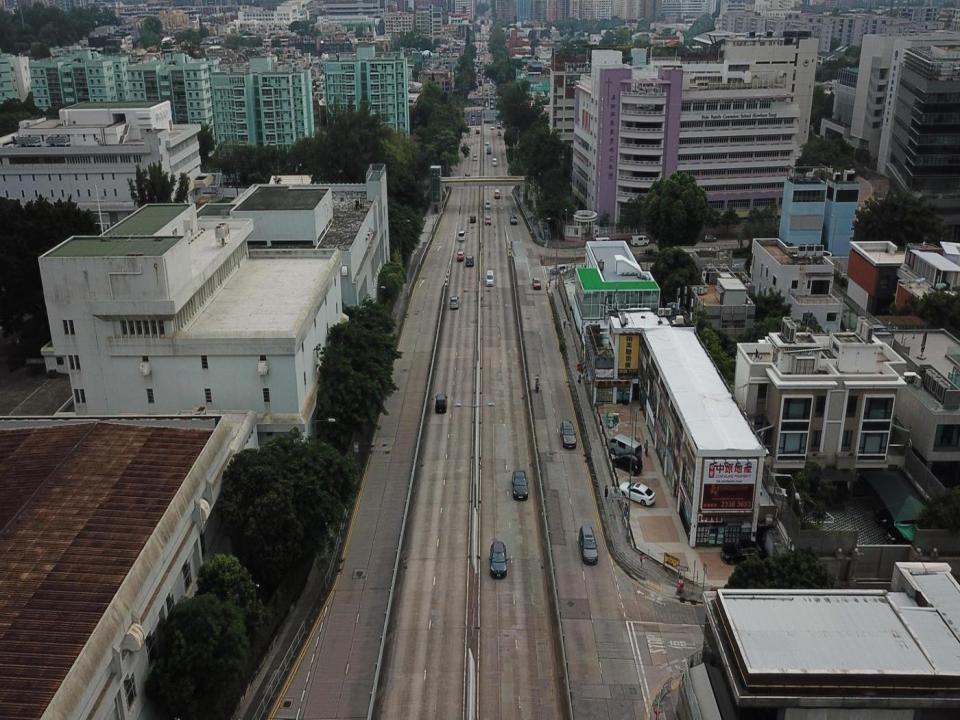car: (619, 481, 655, 506), (612, 453, 642, 476), (489, 541, 507, 577), (560, 420, 577, 450), (512, 469, 528, 500), (550, 265, 570, 274), (449, 296, 459, 310), (532, 277, 541, 289), (510, 214, 518, 226), (466, 255, 474, 266), (704, 235, 716, 242), (457, 251, 464, 262), (484, 215, 491, 224), (470, 215, 476, 224), (486, 147, 492, 155), (472, 154, 478, 161), (486, 201, 490, 210), (465, 172, 470, 179), (485, 140, 489, 145), (476, 129, 480, 134), (491, 126, 494, 130), (498, 132, 500, 136)
van: (608, 433, 642, 462), (579, 523, 598, 563), (435, 393, 448, 413), (631, 234, 649, 246), (596, 237, 612, 248), (486, 270, 494, 286), (458, 229, 465, 242), (494, 189, 500, 199), (492, 158, 497, 166), (496, 121, 500, 128), (471, 117, 475, 121)
